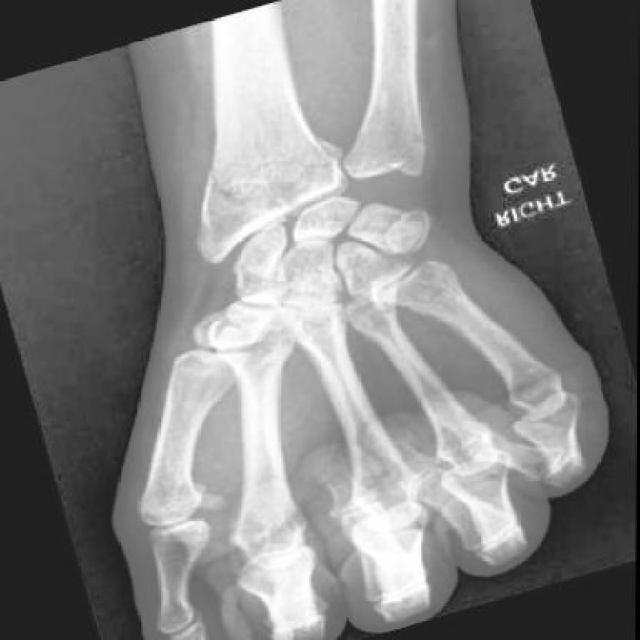Fracture: (199, 139, 338, 222)
